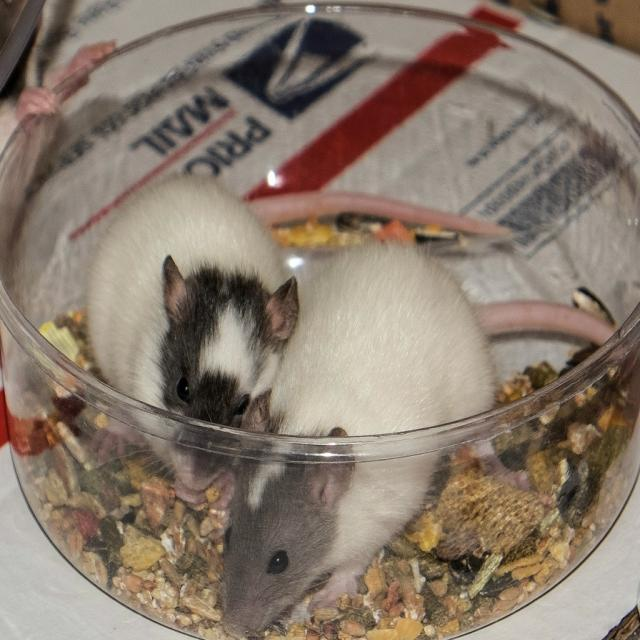rat: (157, 235, 637, 638), (89, 173, 508, 492)
